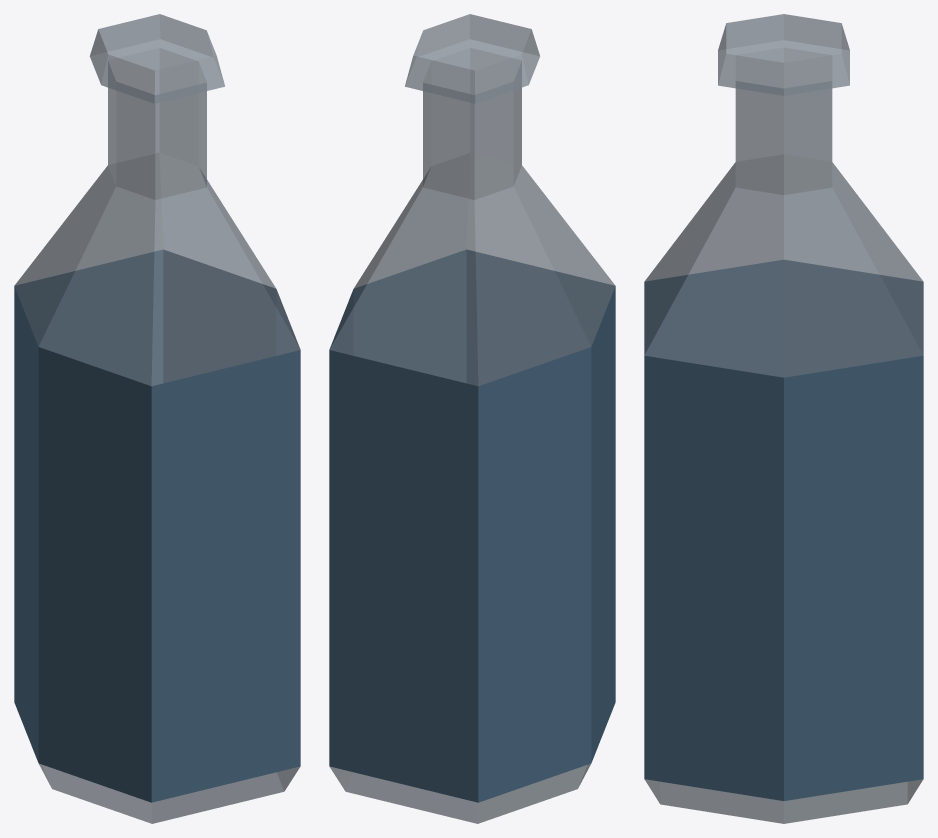
File: Bottle.fbx
3 views of the same model, side by side, from view 1: azimuth 30°, elevation 25°; view 2: azimuth 150°, elevation 25°; view 3: azimuth 270°, elevation 25° (orthographic).
Visible parts, largest first — view 1: pCube1; view 2: pCube1; view 3: pCube1.
Part boxes in pixels (box(x1,y1,x2,y2)): pCube1: box(14, 14, 300, 823); pCube1: box(329, 14, 615, 823); pCube1: box(644, 14, 923, 823).
Bounding box in the file's own units: 1 × 2.9 × 1.
